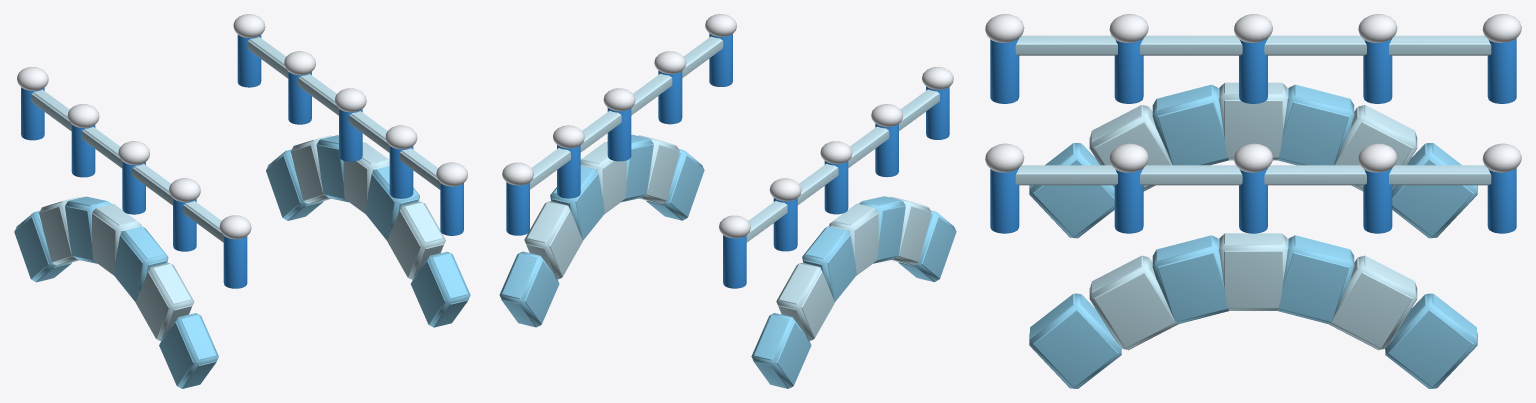
Rendered from IceBridge.glb.
The picture shows the model from 3 angles, left to right: view 1: azimuth 30°, elevation 25°; view 2: azimuth 150°, elevation 25°; view 3: azimuth 270°, elevation 25°; orthographic projection. The views are drawn at different scales.
Visible parts, largest first — view 1: IceBridge; view 2: IceBridge; view 3: IceBridge.
Boxes of the visible parts, x1=… form: IceBridge: x1=14, y1=14, x2=470, y2=388; IceBridge: x1=499, y1=14, x2=956, y2=388; IceBridge: x1=985, y1=14, x2=1521, y2=388.
Bounding box in the file's own units: 19 × 12.08 × 25.9.
Materials: 1 (1 with a texture image).
